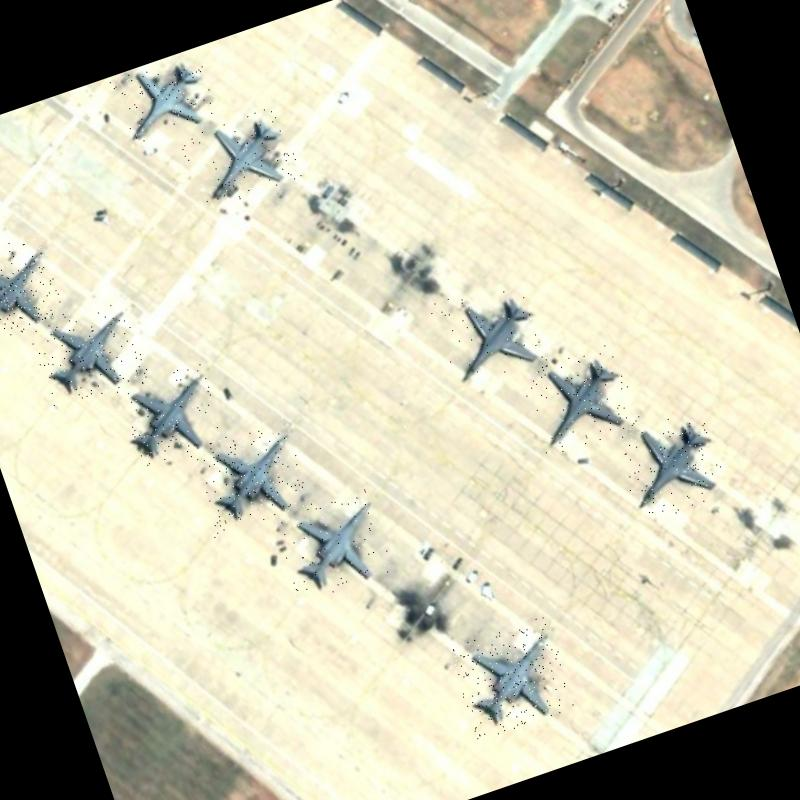A10: (447, 615, 579, 742), (184, 417, 314, 540), (428, 274, 550, 394), (270, 487, 394, 604), (519, 341, 643, 458), (611, 405, 731, 525), (27, 296, 150, 410), (178, 104, 302, 212), (111, 362, 227, 470), (107, 49, 220, 148), (0, 231, 67, 347)
